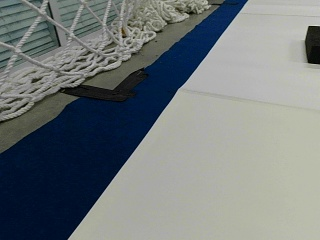block: (304, 25, 319, 63)
